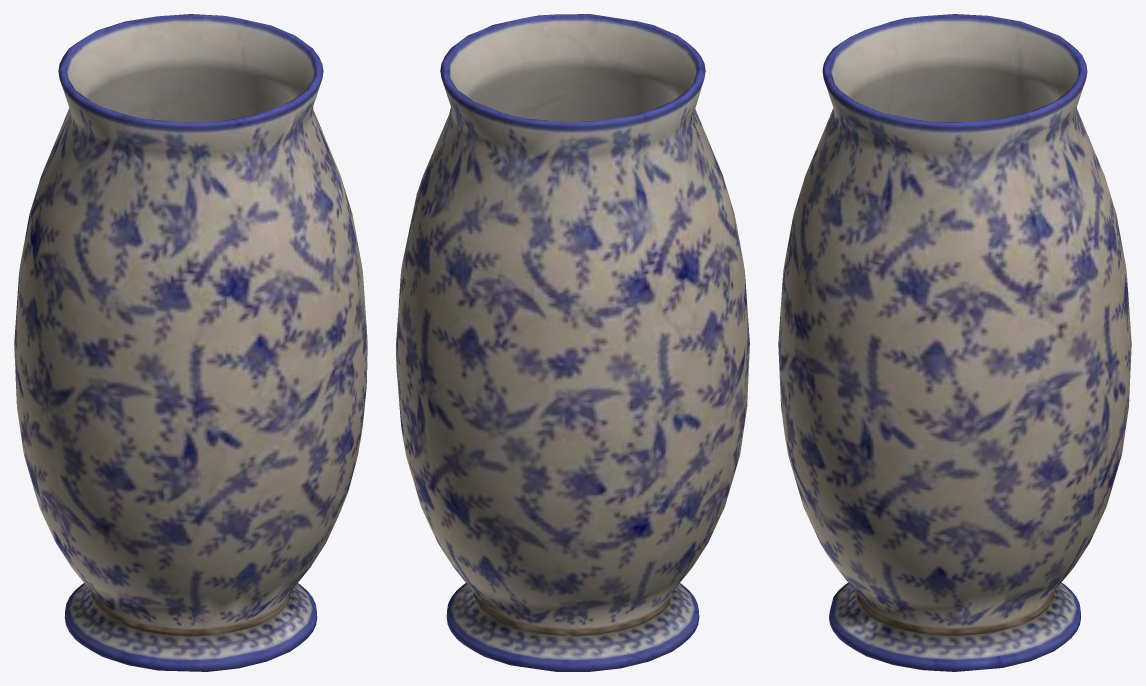
The model's file is antique_ceramic_vase_01.glb.
The picture shows the model from 3 angles, left to right: view 1: azimuth 30°, elevation 25°; view 2: azimuth 150°, elevation 25°; view 3: azimuth 270°, elevation 25°; orthographic projection.
Parts seen in each view (by area): view 1: antique_ceramic_vase_01; view 2: antique_ceramic_vase_01; view 3: antique_ceramic_vase_01.
Part boxes in pixels (left/top/right/bottom): antique_ceramic_vase_01: left=14, top=14, right=367, bottom=671; antique_ceramic_vase_01: left=396, top=14, right=749, bottom=671; antique_ceramic_vase_01: left=778, top=14, right=1131, bottom=671.
Bounding box in the file's own units: 0.255 × 0.4396 × 0.255.
1 material, 1 textured.
